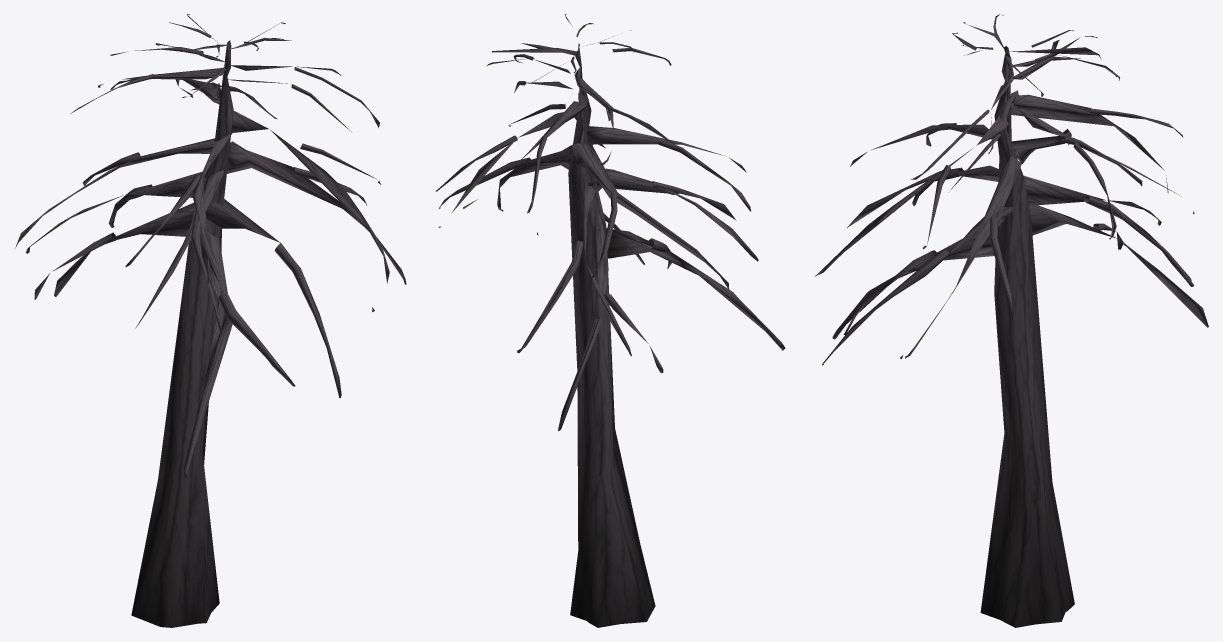
File: DeadTree_4@lod.gltf
The picture shows the model from 3 angles, left to right: view 1: azimuth 30°, elevation 25°; view 2: azimuth 150°, elevation 25°; view 3: azimuth 270°, elevation 25°; orthographic projection. The views are drawn at different scales.
Visible parts, largest first — view 1: DeadTree_4; view 2: DeadTree_4; view 3: DeadTree_4.
Boxes of the visible parts, x1,y1,x2,y2 form: DeadTree_4: [15, 14, 406, 627]; DeadTree_4: [435, 14, 785, 627]; DeadTree_4: [814, 14, 1208, 627].
Size of the model in its own units: 7.61 by 12.76 by 7.7.
Materials: 1 (1 with a texture image).
